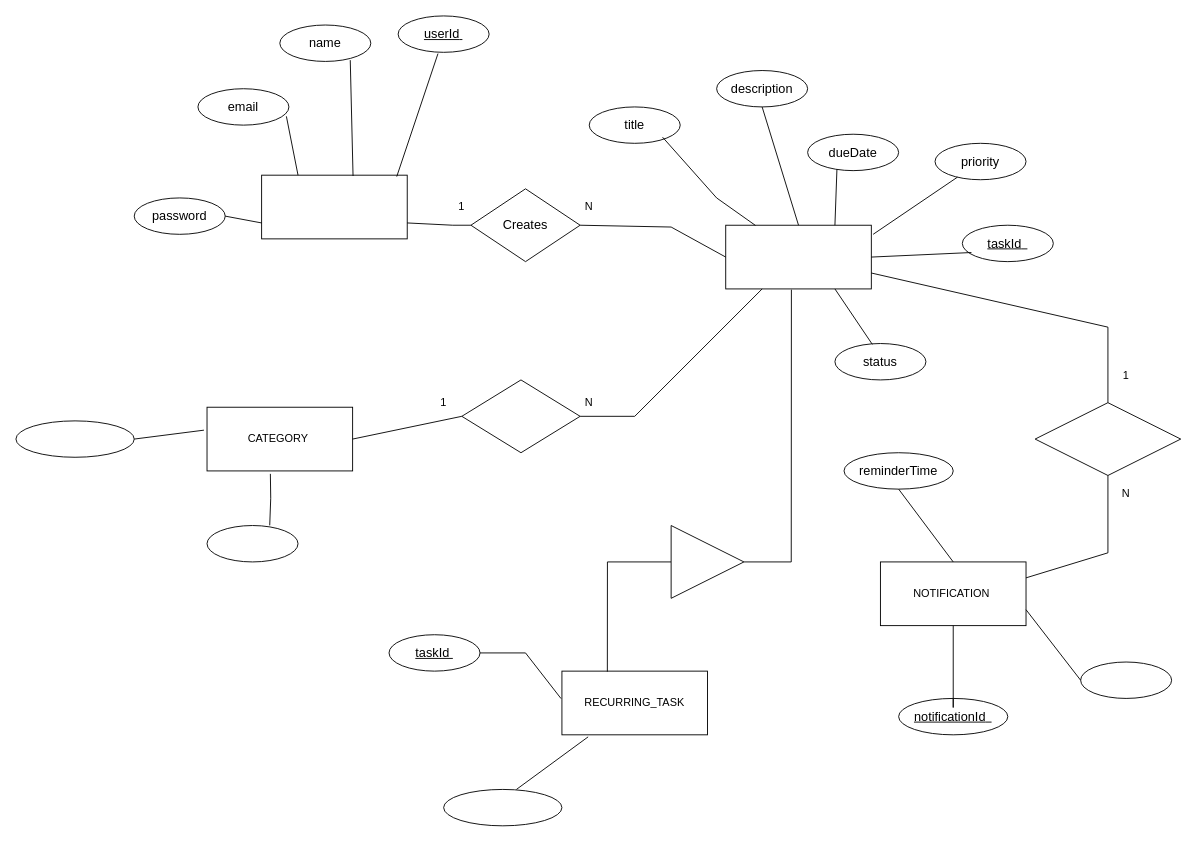
Some shapes in this 1197 by 842 pixel diagram are drawn without their labels. The shapes that lost their labels are listed below. From the top down, each one's box as (x1, y1, x2, y2) in pixels, then its label:
(261, 174, 407, 239): USER
(725, 224, 871, 289): TASK
(461, 379, 580, 453): Contains
(15, 420, 134, 457): categoryName
(1034, 402, 1181, 475): Generates
(206, 525, 298, 562): categoryId
(670, 525, 744, 598): IS A
(1080, 661, 1172, 698): message
(443, 789, 562, 826): recurrenceType
